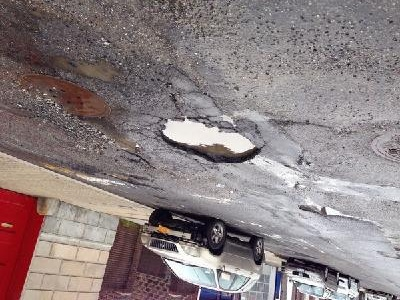pothole: (160, 114, 264, 165), (50, 54, 123, 85), (101, 170, 161, 191), (297, 201, 345, 218)
